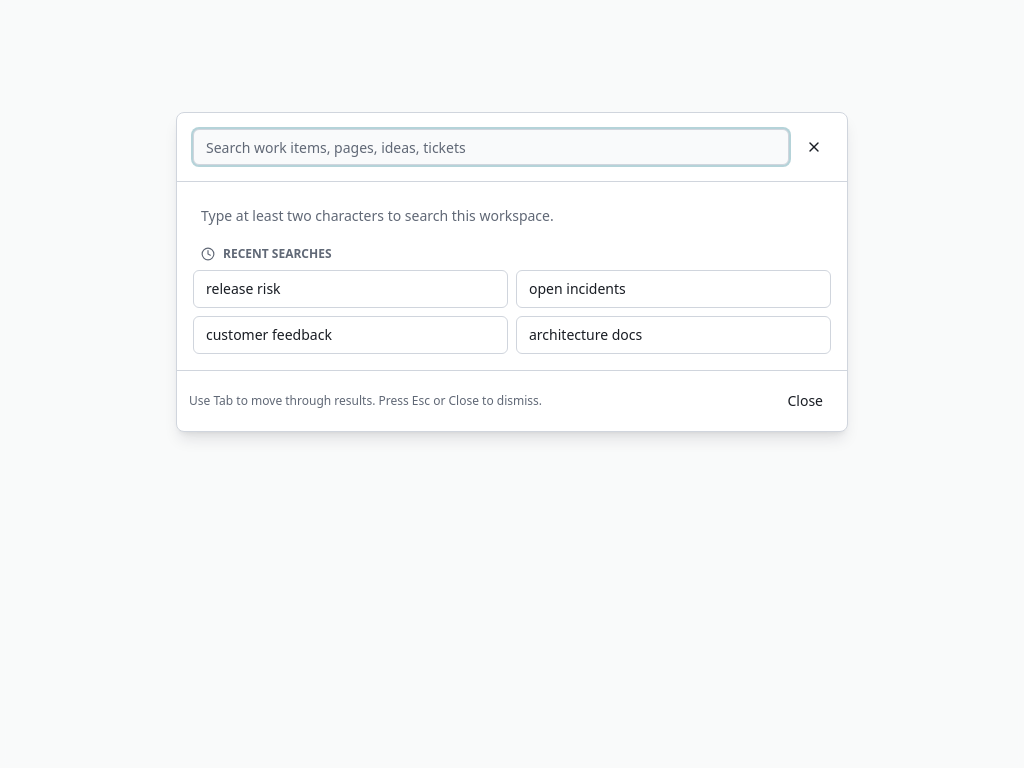
Test case: SearchDialog › shows API error state
Type "memory" into the field with placeholder "Search work items, pages, ideas, tickets" at (491, 147), box [193,129,789,165]
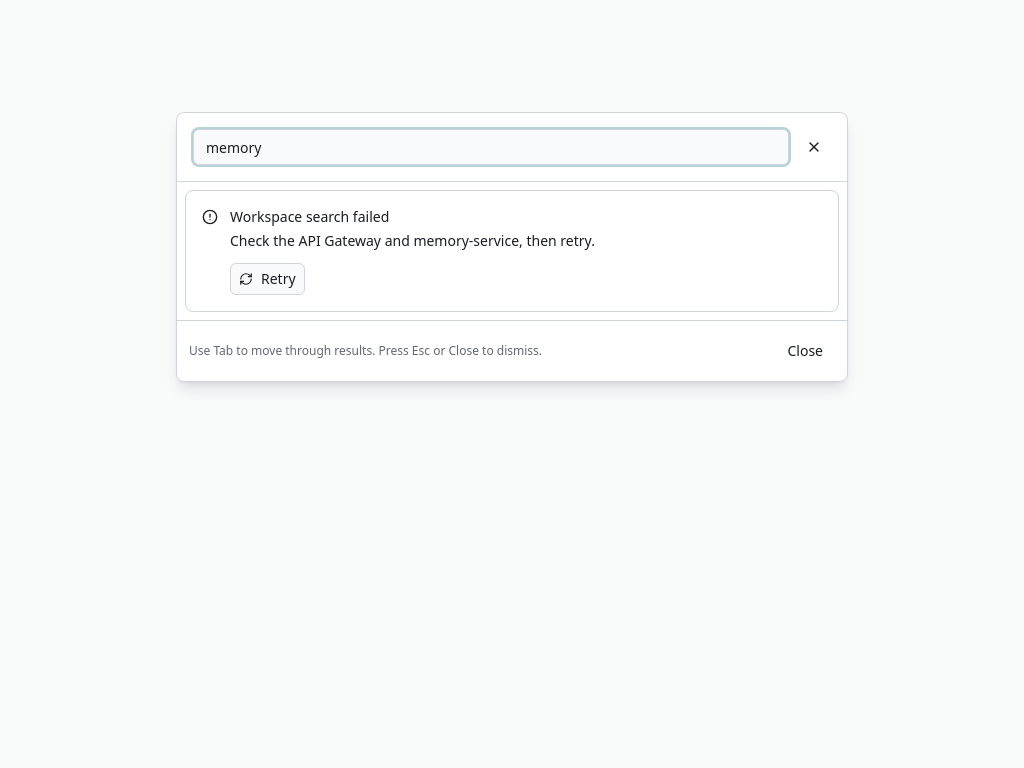
Expected: the text "Workspace search failed" is shown, [230,207,389,226]
